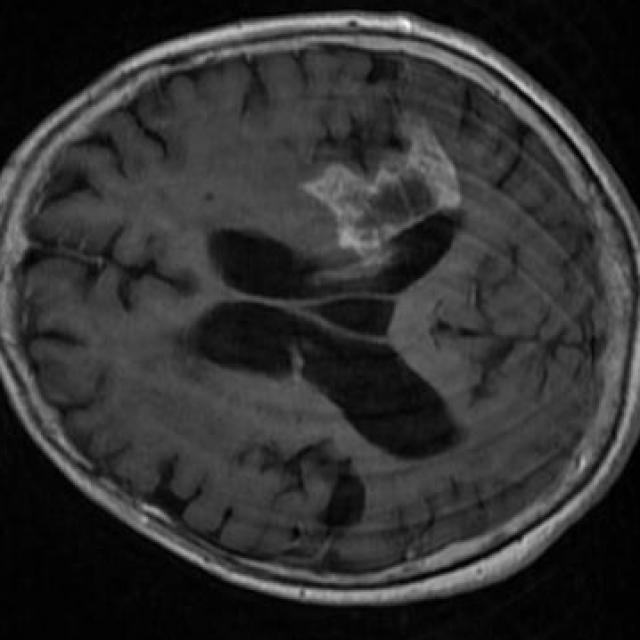glioma: (303, 112, 462, 264)
